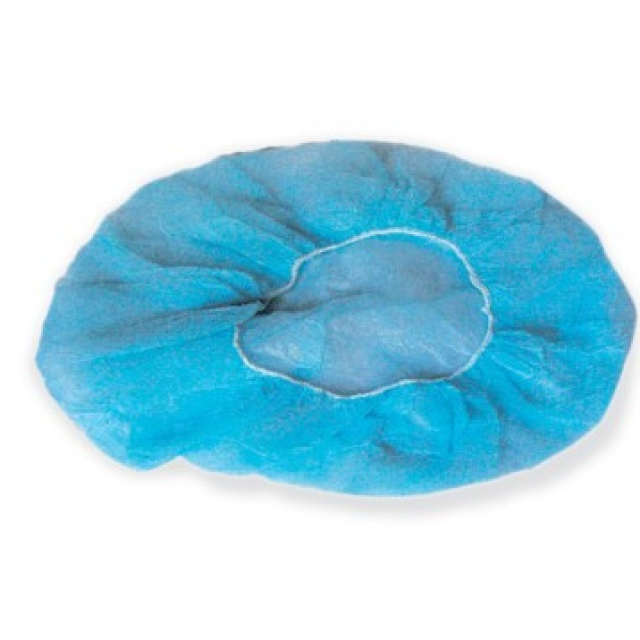Hairnet: (59, 124, 624, 478)
